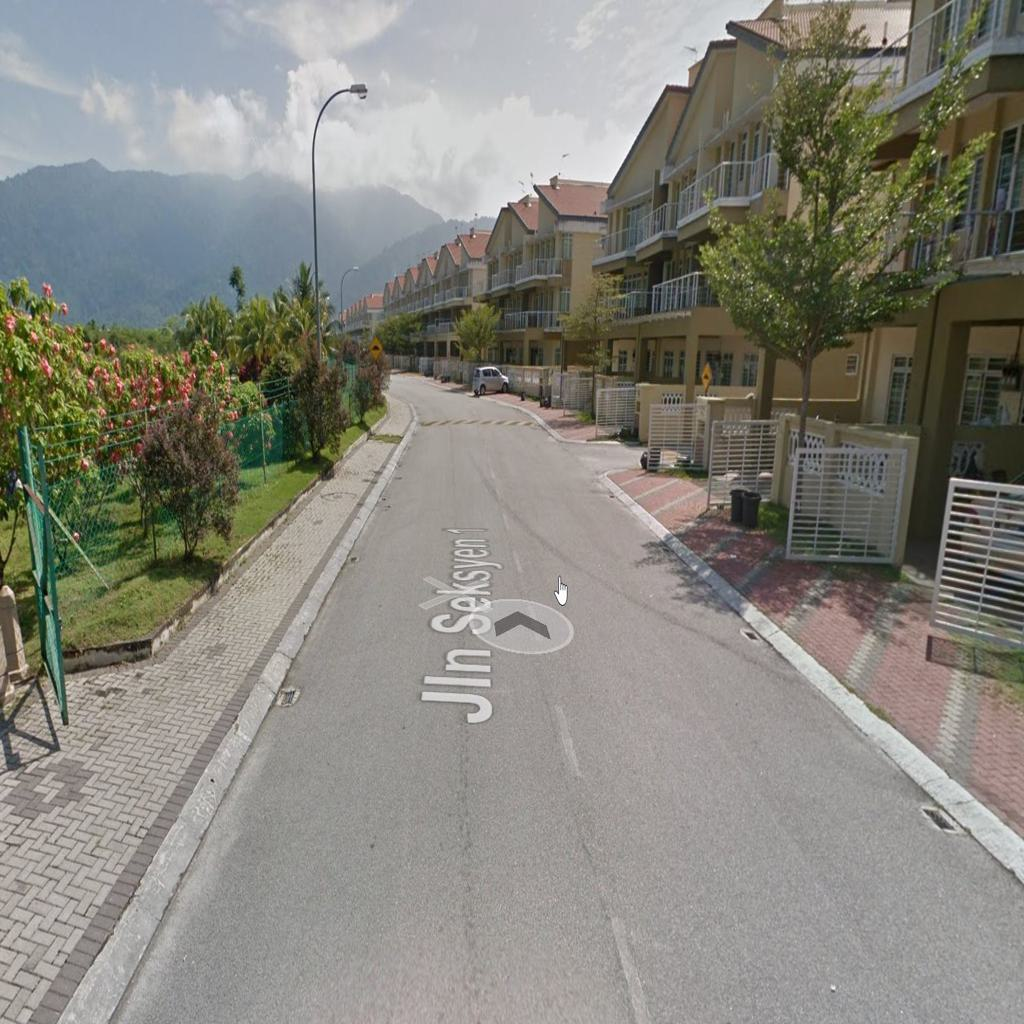Junction: (542, 421, 680, 482)
